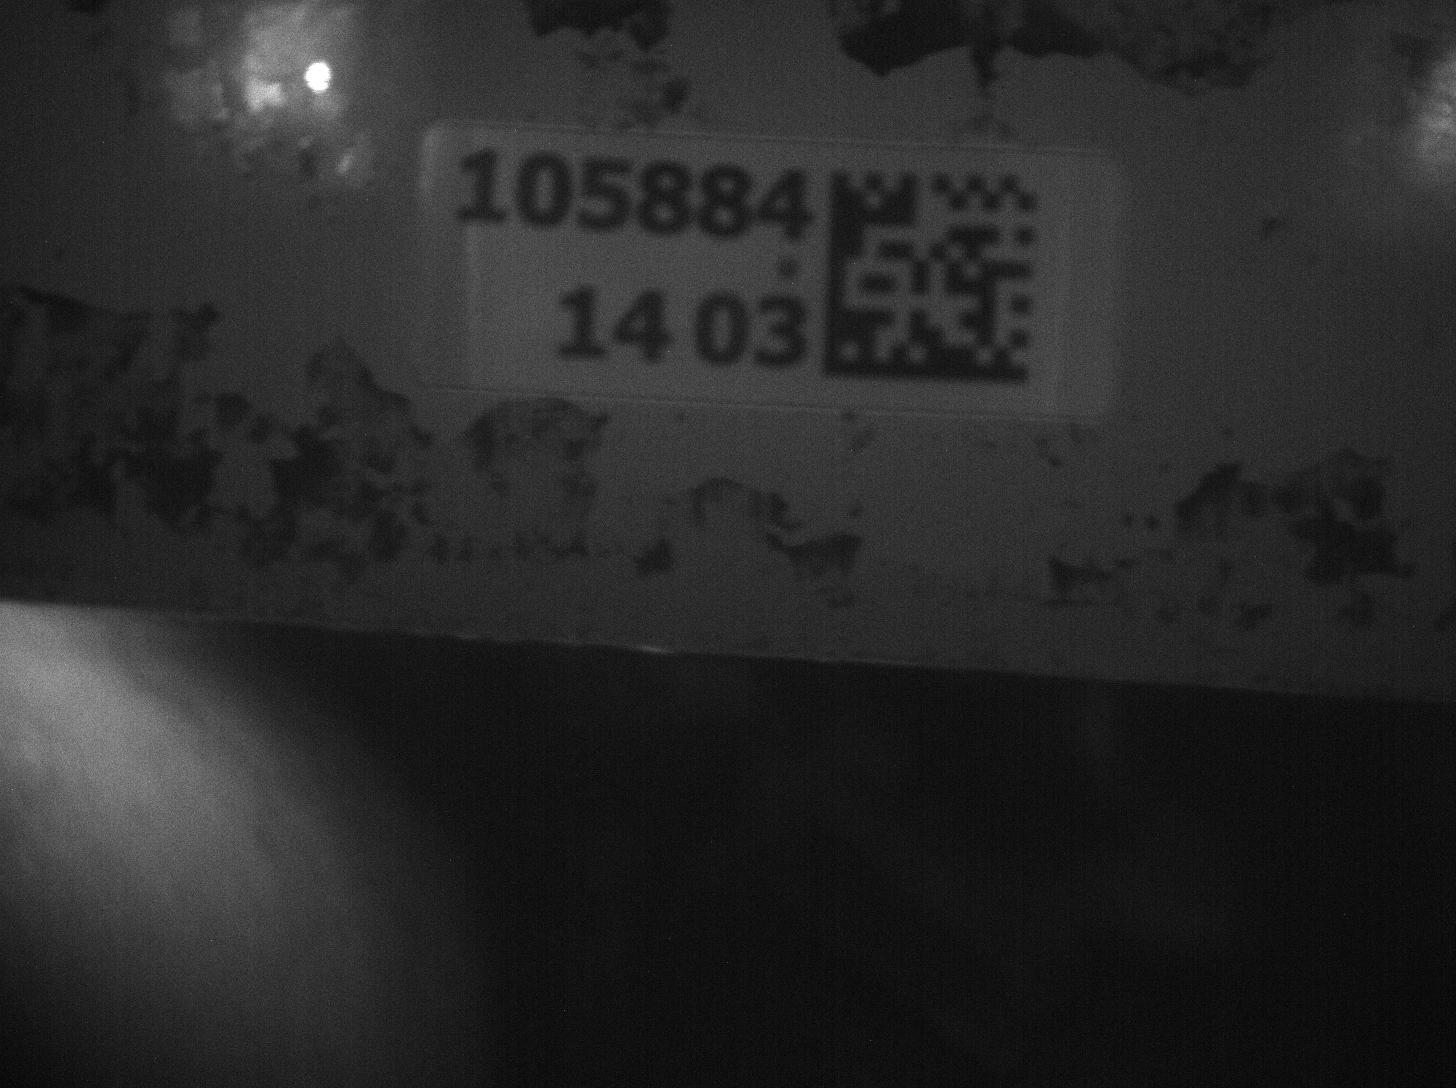data matrix: (810, 152, 1061, 405)
